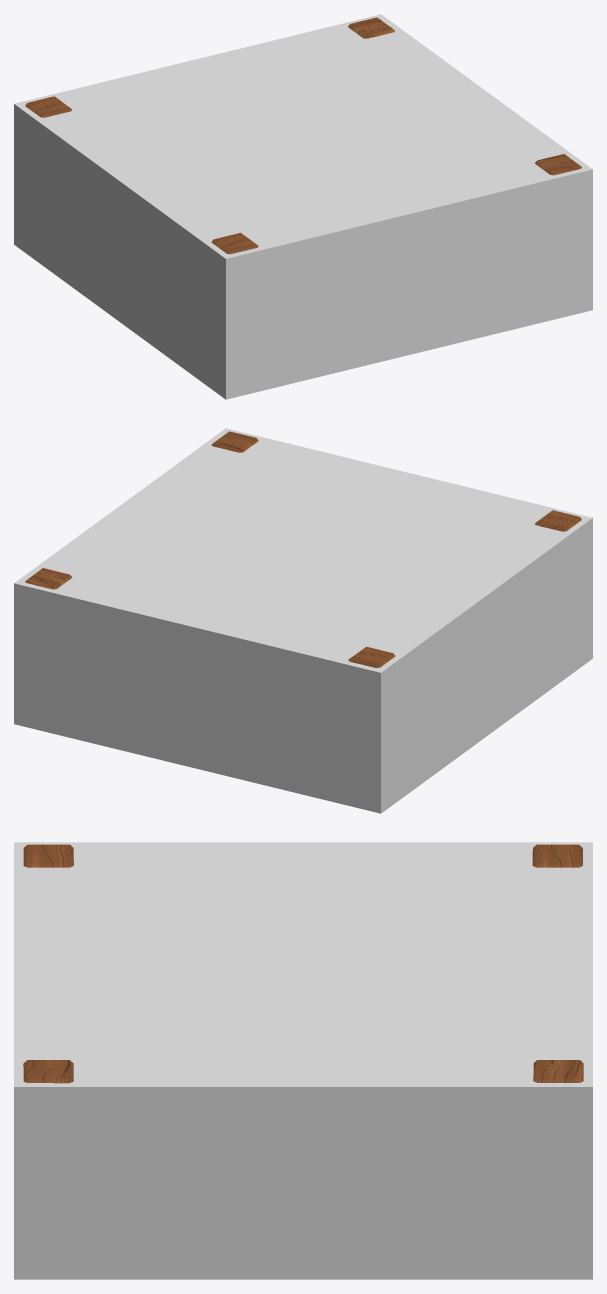
Rendered from SM_Crate_03.fbx.
The picture shows the model from 3 angles, top to bottom: view 1: azimuth 30°, elevation 25°; view 2: azimuth 150°, elevation 25°; view 3: azimuth 270°, elevation 25°; orthographic projection. The views are drawn at different scales.
Visible parts, largest first — view 1: Crate03_Col0, Crate03_Body; view 2: Crate03_Col0, Crate03_Body; view 3: Crate03_Col0, Crate03_Body.
Part boxes in pixels (box(x1,y1,x2,y2)): Crate03_Col0: box(14, 14, 592, 399); Crate03_Body: box(25, 17, 581, 254); Crate03_Col0: box(14, 428, 592, 813); Crate03_Body: box(25, 431, 581, 667); Crate03_Col0: box(14, 842, 592, 1279); Crate03_Body: box(23, 844, 583, 1083).
Size of the model in its own units: 3 by 1.12 by 3.
